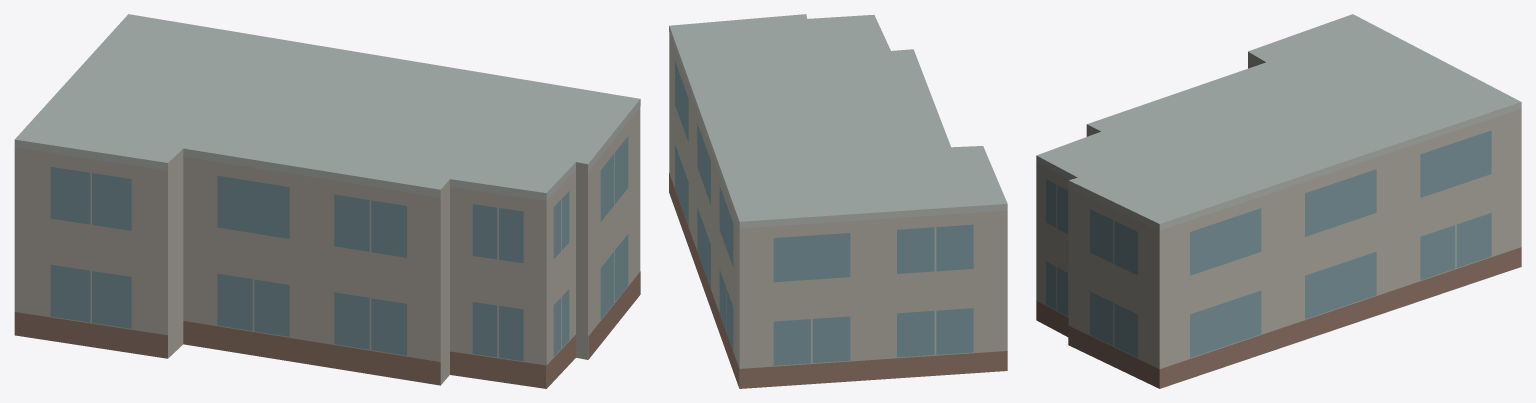
The model's file is survey-upis-32874700.glb.
The picture shows the model from 3 angles, left to right: view 1: azimuth 30°, elevation 25°; view 2: azimuth 150°, elevation 25°; view 3: azimuth 270°, elevation 25°; orthographic projection. The views are drawn at different scales.
Parts seen in each view (by area): view 1: survey-upis-32874700.tmp; view 2: survey-upis-32874700.tmp; view 3: survey-upis-32874700.tmp.
Boxes of the visible parts, x1=… form: survey-upis-32874700.tmp: x1=14, y1=14, x2=640, y2=388; survey-upis-32874700.tmp: x1=669, y1=14, x2=1007, y2=388; survey-upis-32874700.tmp: x1=1036, y1=14, x2=1521, y2=388.
Size of the model in its own units: 16.68 by 6.1 by 16.28.
